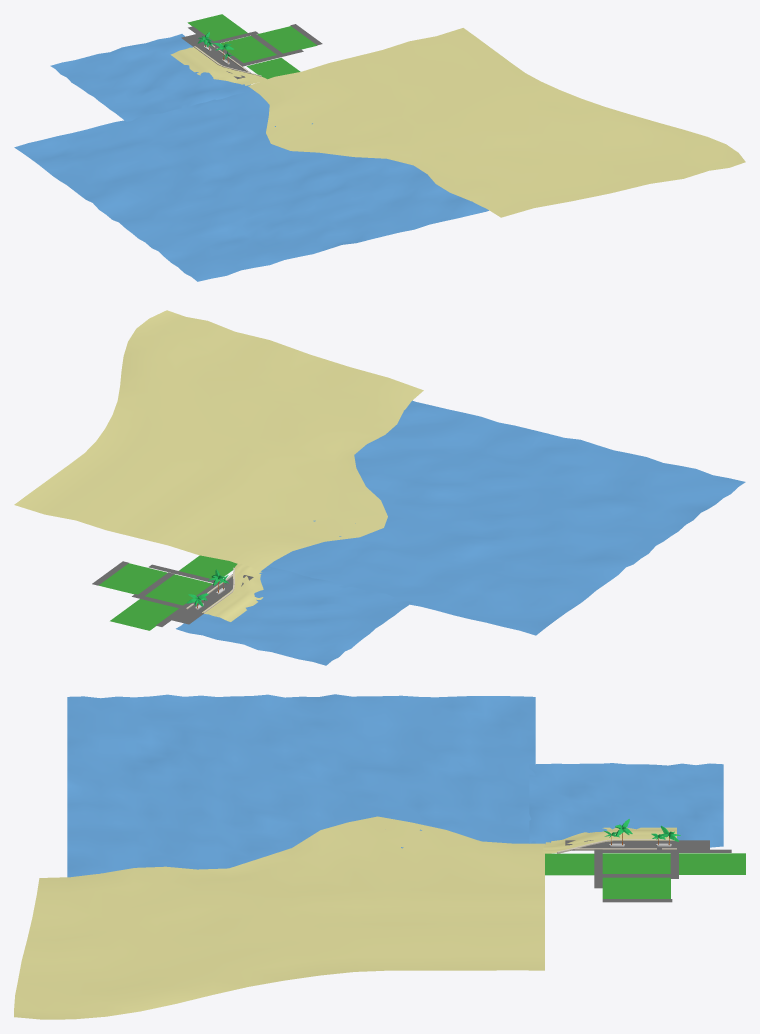
Rendered from sbnm sm1.glb.
3 renders of one model, top to bottom at view 1: azimuth 30°, elevation 25°; view 2: azimuth 150°, elevation 25°; view 3: azimuth 270°, elevation 25°, orthographic. The views are drawn at different scales.
Parts seen in each view (by area): view 1: Plane.044, Plane.045, Plane.043, Plane, Plane.041, Plane.039, Plane.004, Plane.040, Plane.005; view 2: Plane.044, Plane.045, Plane.043, Plane, Plane.039, Plane.041, Plane.004, Plane.040, Plane.005; view 3: Plane.044, Plane.045, Plane.043, Plane.041, Plane.039, Plane, Plane.004, Plane.040, Plane.005.
Boxes of the visible parts, x1=… form: Plane.044: x1=248, y1=28, x2=745, y2=217; Plane.045: x1=14, y1=88, x2=488, y2=281; Plane.043: x1=50, y1=34, x2=253, y2=121; Plane: x1=170, y1=46, x2=266, y2=85; Plane.041: x1=257, y1=26, x2=317, y2=53; Plane.039: x1=187, y1=14, x2=247, y2=41; Plane.004: x1=220, y1=36, x2=276, y2=62; Plane.040: x1=246, y1=57, x2=300, y2=79; Plane.005: x1=181, y1=34, x2=250, y2=79; Plane.044: x1=14, y1=310, x2=423, y2=571; Plane.045: x1=265, y1=400, x2=745, y2=635; Plane.043: x1=176, y1=566, x2=412, y2=665; Plane: x1=202, y1=564, x2=263, y2=621; Plane.039: x1=110, y1=599, x2=178, y2=630; Plane.041: x1=98, y1=563, x2=167, y2=594; Plane.004: x1=145, y1=574, x2=212, y2=605; Plane.040: x1=179, y1=555, x2=237, y2=578; Plane.005: x1=172, y1=574, x2=253, y2=624; Plane.044: x1=14, y1=816, x2=544, y2=1019; Plane.045: x1=67, y1=694, x2=535, y2=877; Plane.043: x1=529, y1=763, x2=723, y2=847; Plane.041: x1=602, y1=877, x2=670, y2=898; Plane.039: x1=679, y1=853, x2=745, y2=874; Plane: x1=542, y1=827, x2=676, y2=853; Plane.004: x1=602, y1=853, x2=670, y2=873; Plane.040: x1=545, y1=853, x2=594, y2=875; Plane.005: x1=565, y1=840, x2=709, y2=850.
Size of the model in its own units: 61.8 by 2.48 by 57.78.
Materials: 7 (1 with a texture image).
